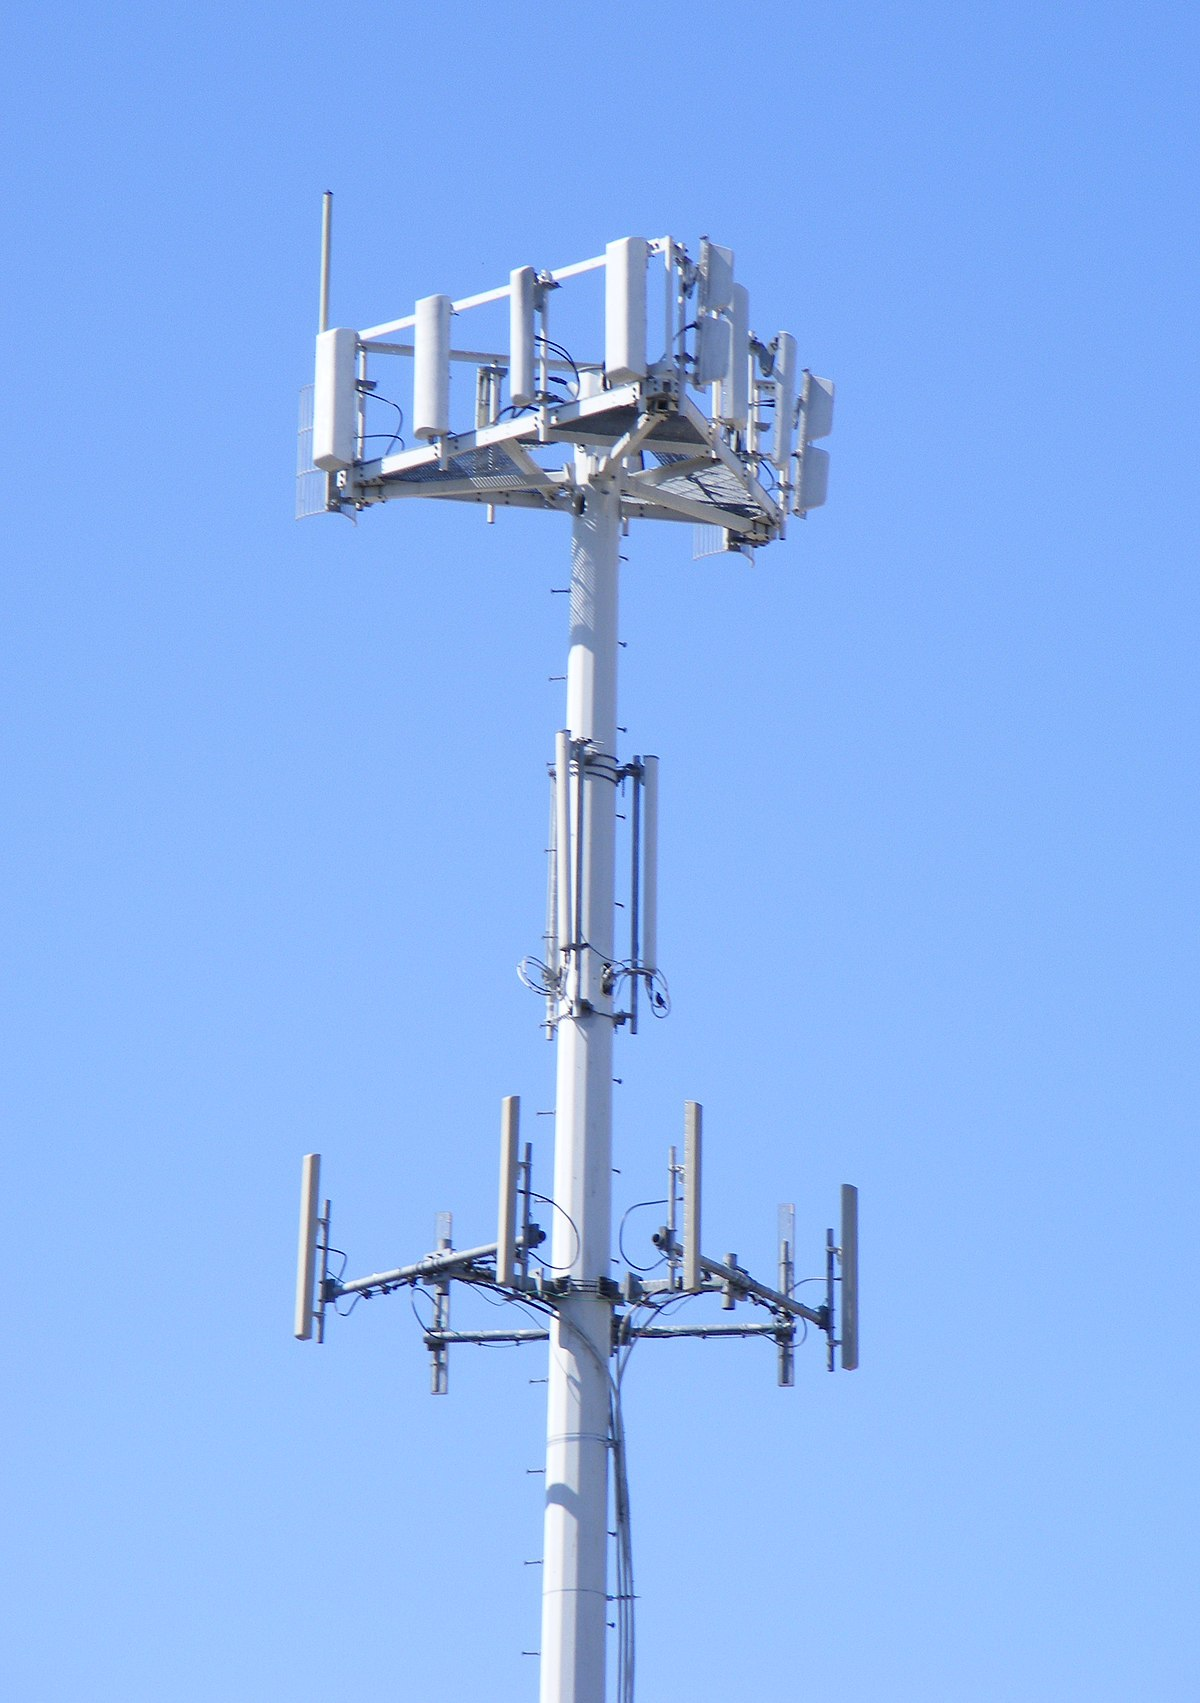sa: (561, 212, 666, 469), (268, 1141, 355, 1375), (821, 1162, 888, 1399), (483, 1084, 551, 1317), (316, 279, 369, 514), (764, 319, 812, 509), (408, 276, 455, 463)
